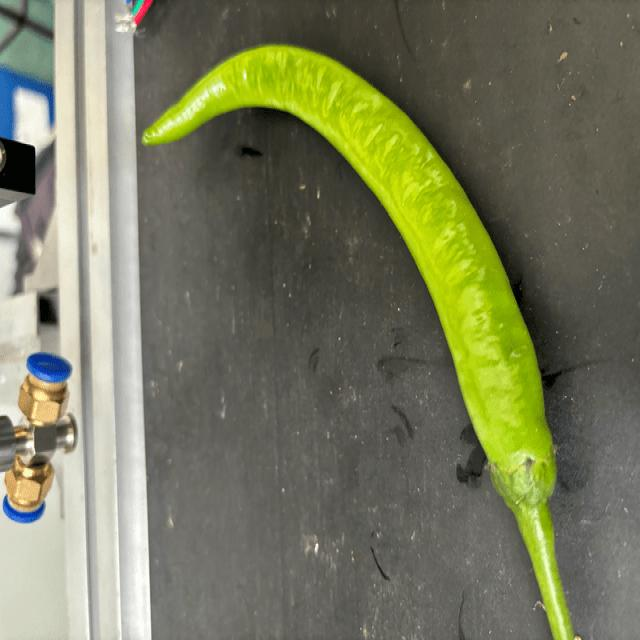chili: (141, 40, 556, 516)
